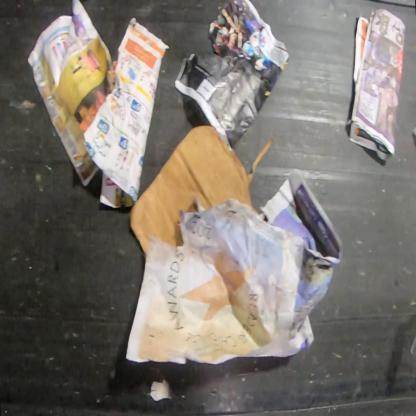cardboard: (130, 125, 274, 259)
